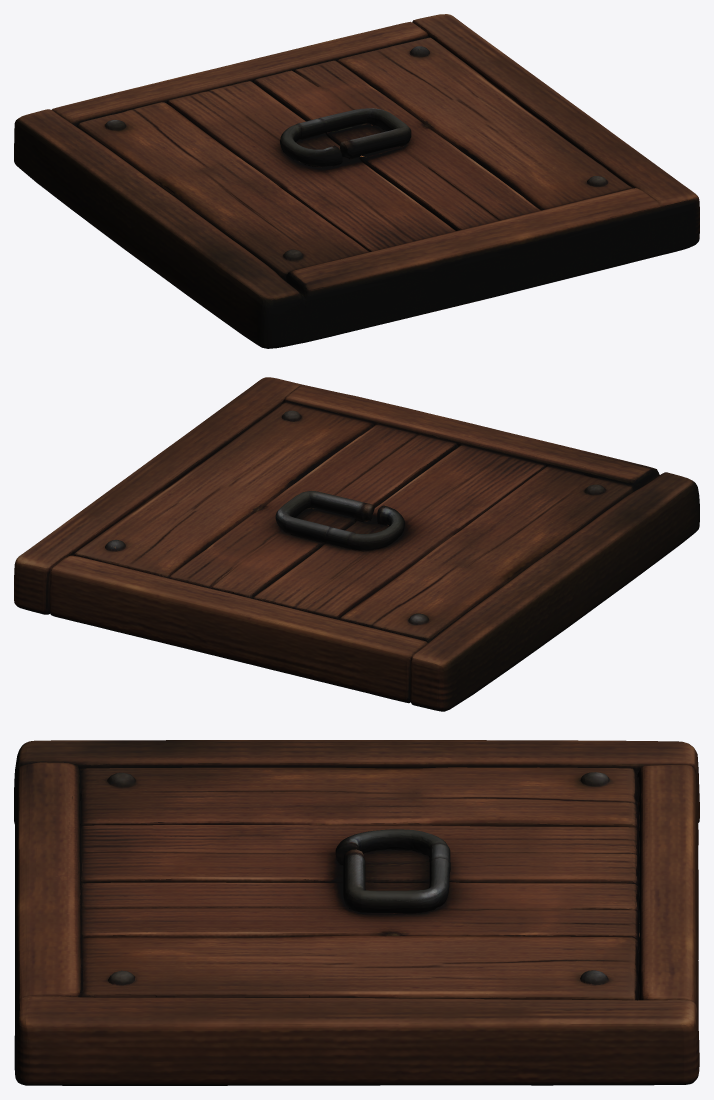
The model's file is trapdoor_wood.glb.
3 views of the same model, one above another, from view 1: azimuth 30°, elevation 25°; view 2: azimuth 150°, elevation 25°; view 3: azimuth 270°, elevation 25° (orthographic). The views are drawn at different scales.
Visible parts, largest first — view 1: world; view 2: world; view 3: world.
Part boxes in pixels (bbox=[...]): world: bbox=[14, 14, 699, 348]; world: bbox=[14, 377, 699, 711]; world: bbox=[14, 740, 699, 1085].
Bounding box in the file's own units: 0.9933 × 0.1449 × 0.9961.
Materials: 1 (1 with a texture image).
